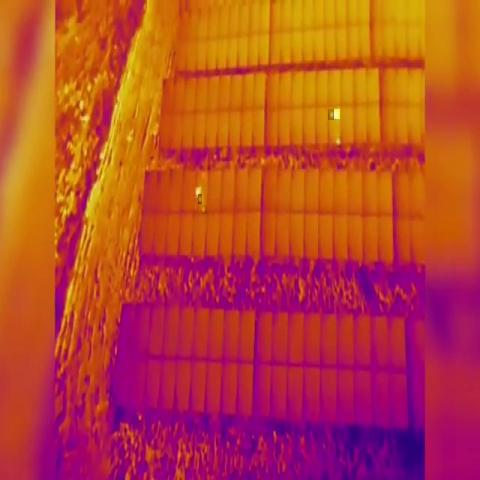fault: (195, 187, 201, 198), (328, 109, 334, 120), (336, 136, 341, 148), (334, 109, 340, 119), (202, 205, 207, 214), (198, 194, 202, 204)
